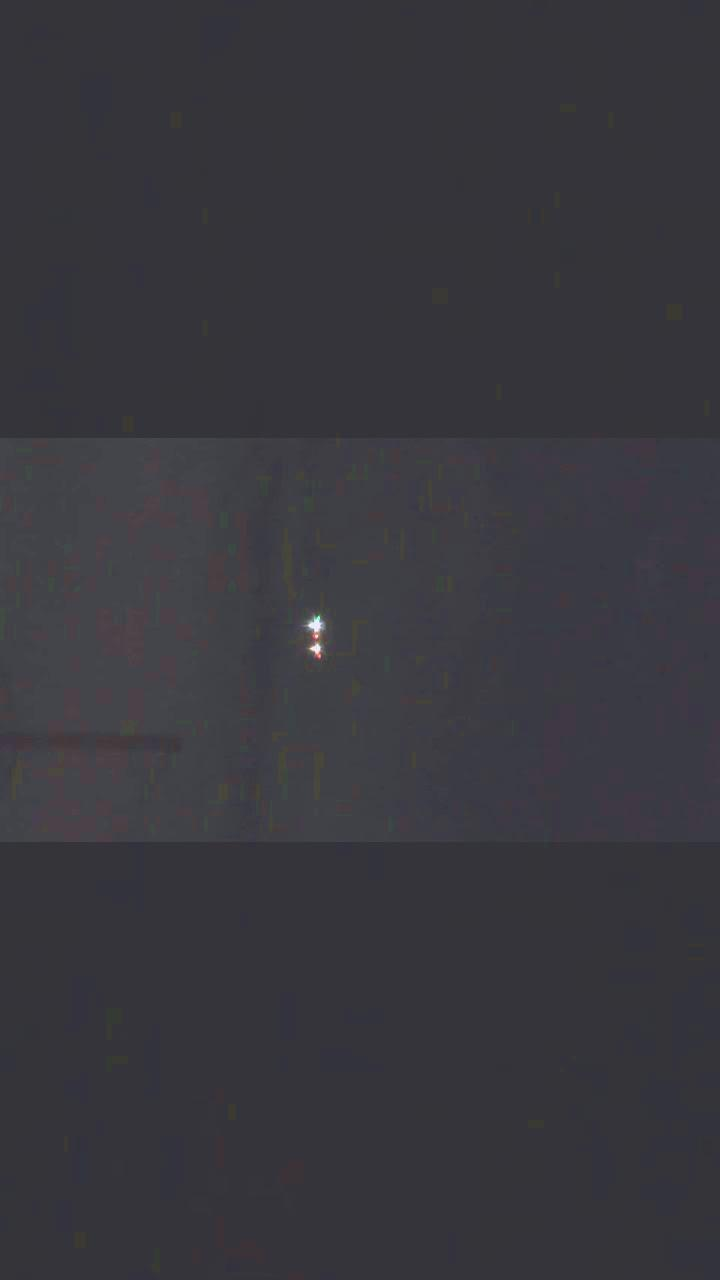Plane: (282, 583, 349, 691)
